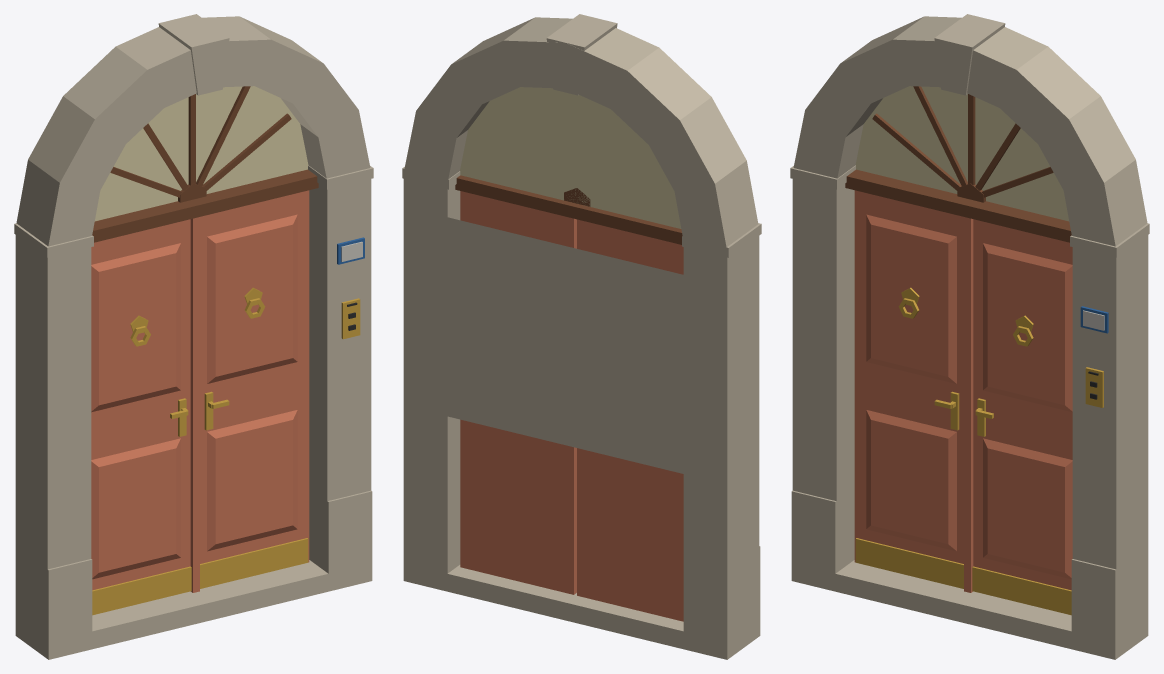
Rendered from kapi_ahsap_2.glb.
3 views of the same model, side by side, from view 1: azimuth 30°, elevation 25°; view 2: azimuth 150°, elevation 25°; view 3: azimuth 330°, elevation 25° (orthographic).
Visible parts, largest first — view 1: kapi_ahsap_2; view 2: kapi_ahsap_2; view 3: kapi_ahsap_2.
Boxes of the visible parts, x1,y1,x2,y2 form: kapi_ahsap_2: (14,14,373,659); kapi_ahsap_2: (402,14,761,659); kapi_ahsap_2: (790,14,1149,659).
Size of the model in its own units: 1.72 by 2.9 by 0.311.
